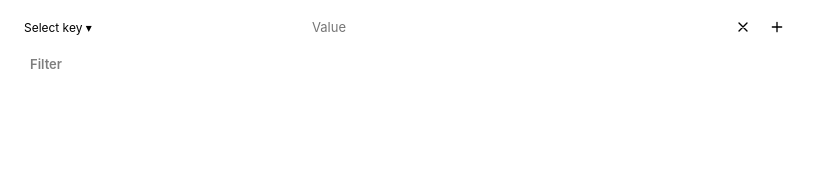
Test case: HeaderFilterPanel › adds a row below with the + button, and removes it with its Delete button
What coordinates should you click on to do the following:
click the button named "Add header"
I would click on:
 (777, 27)
Its box is 762,12 -> 792,42.
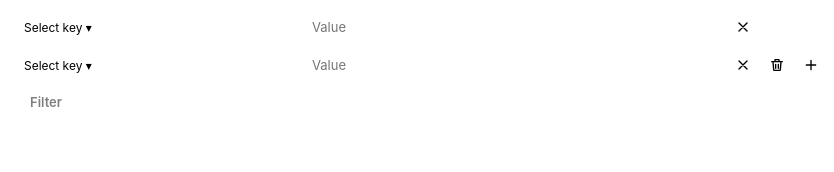
Expected: the number of fields named "Header value" is 2, 300,12 -> 720,42; 300,50 -> 720,80
What coordinates should you click on to do the following:
click the button named "Delete header 2"
I would click on:
 (777, 65)
Its box is 762,50 -> 792,80.
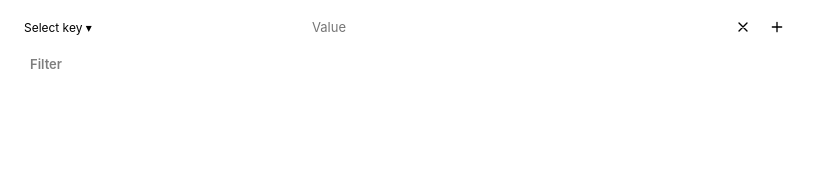
Expected: the number of fields named "Header value" is 1, 300,12 -> 720,42
